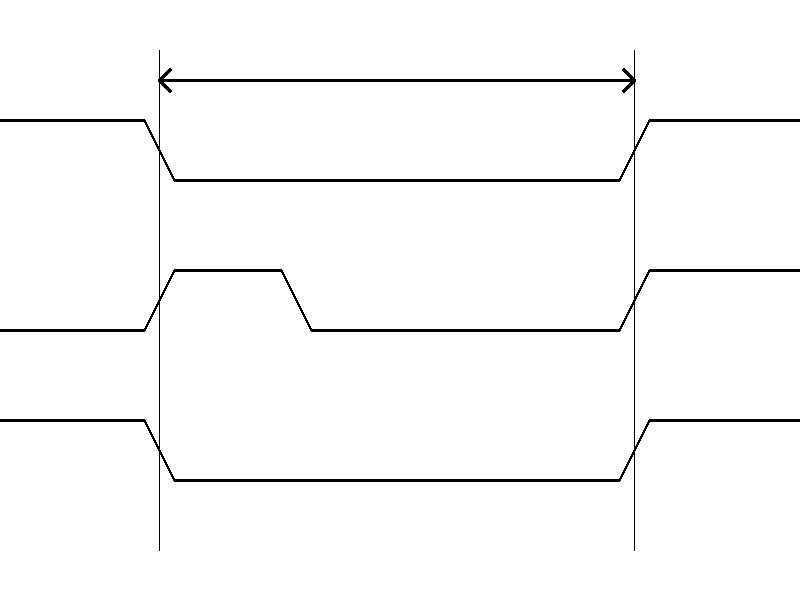double_arrow: (159, 65, 634, 95)
